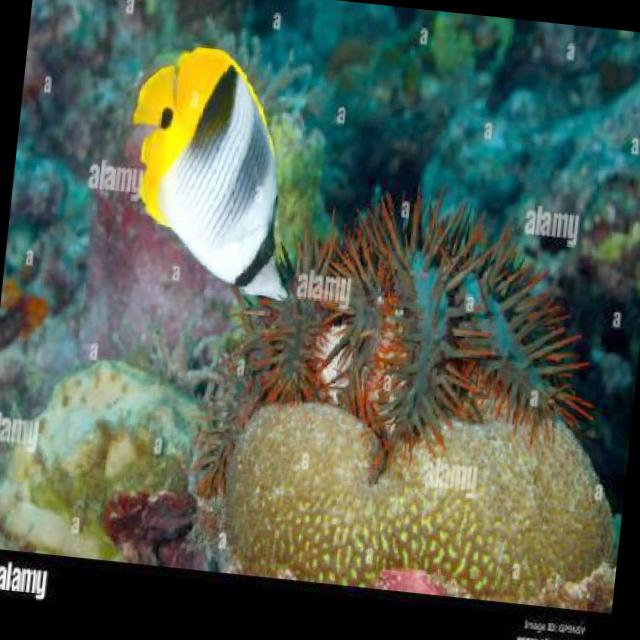ButterflyFish: (115, 40, 312, 308)
